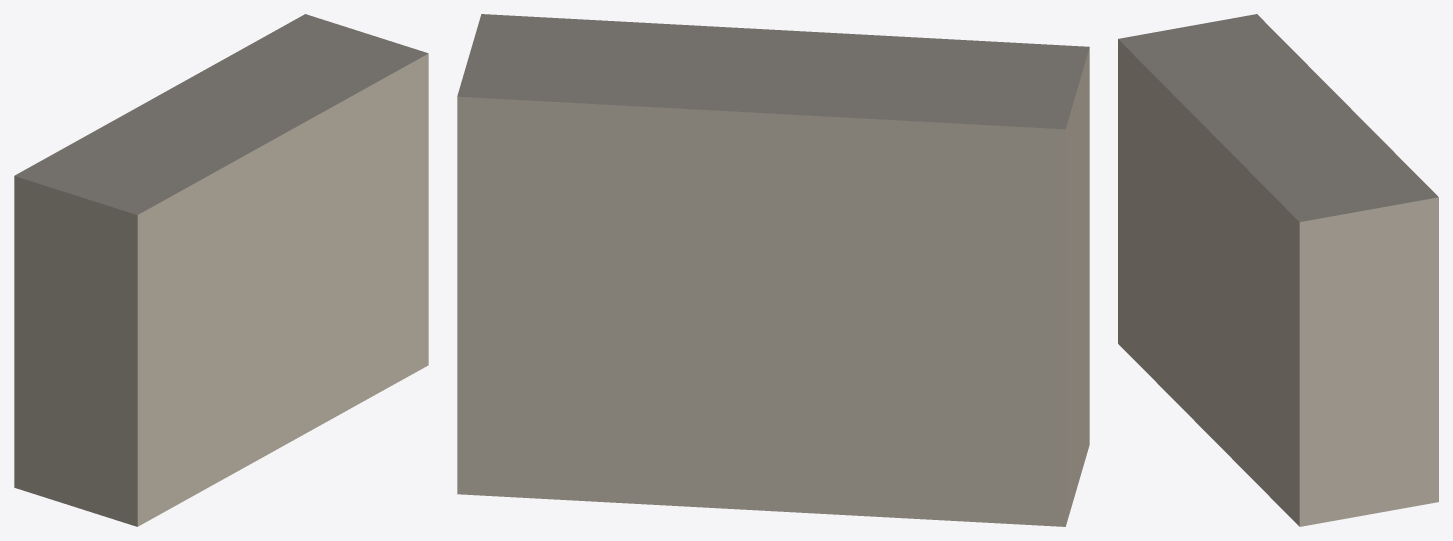
3 renders of one model, left to right at view 1: azimuth 30°, elevation 25°; view 2: azimuth 150°, elevation 25°; view 3: azimuth 270°, elevation 25°, orthographic. The views are drawn at different scales.
Parts seen in each view (by area): view 1: HP-w1435294167; view 2: HP-w1435294167; view 3: HP-w1435294167.
Boxes of the visible parts, <box> form: HP-w1435294167: <box>14,14,428,526</box>; HP-w1435294167: <box>457,14,1089,526</box>; HP-w1435294167: <box>1118,14,1438,526</box>.
Size of the model in its own units: 26.37 by 18 by 17.17.
